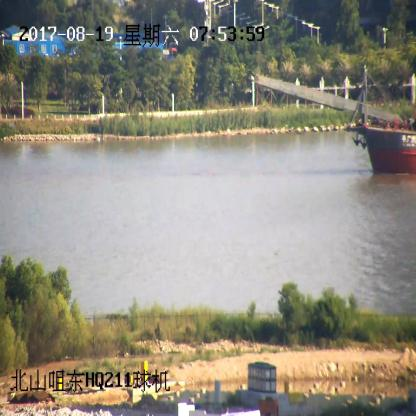Bulk Carrier: (256, 73, 416, 175)
